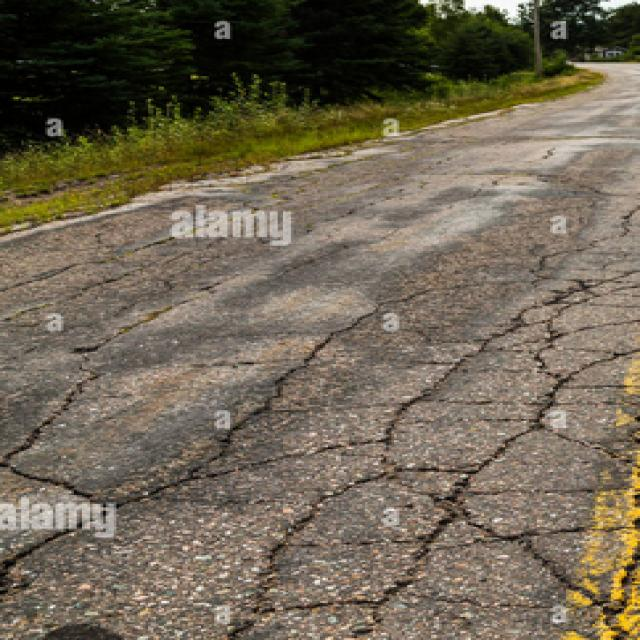Drain Hole: (193, 357, 609, 590)
